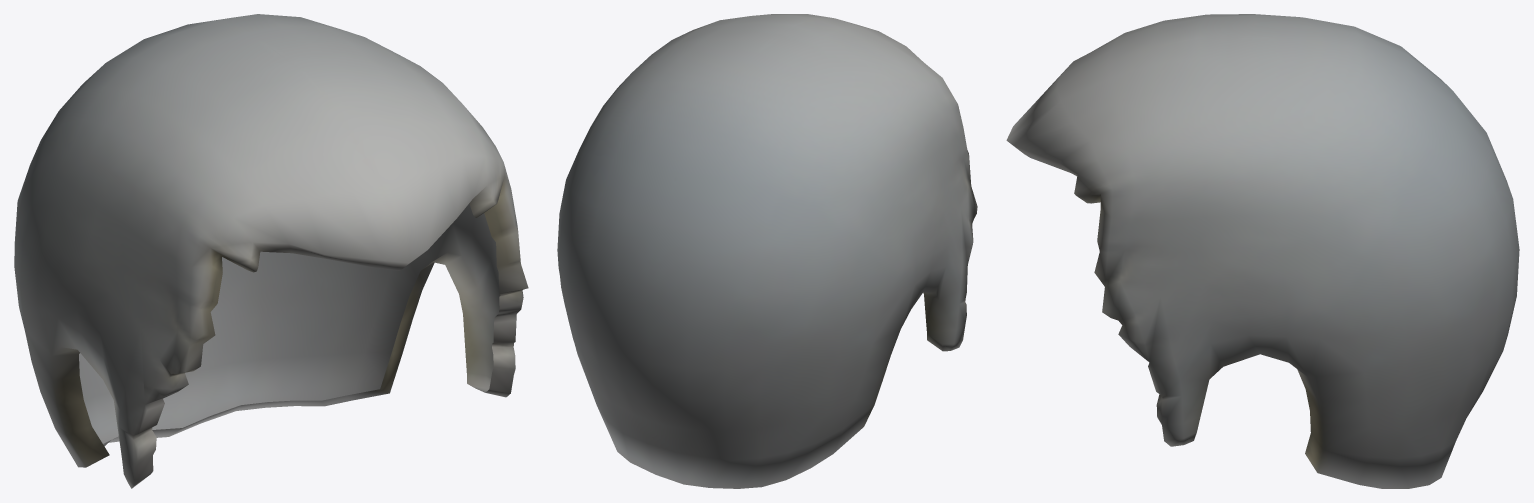
File: hair_buzz.glb
3 views of the same model, side by side, from view 1: azimuth 30°, elevation 25°; view 2: azimuth 150°, elevation 25°; view 3: azimuth 270°, elevation 25° (orthographic). The views are drawn at different scales.
Parts seen in each view (by area): view 1: Hair_Buzzed; view 2: Hair_Buzzed; view 3: Hair_Buzzed.
Boxes of the visible parts, x1,y1,x2,y2 form: Hair_Buzzed: (14, 14, 528, 488); Hair_Buzzed: (557, 14, 977, 488); Hair_Buzzed: (1006, 14, 1519, 488).
Bounding box in the file's own units: 0.1546 × 0.1714 × 0.1897.
Materials: 1 (1 with a texture image).
